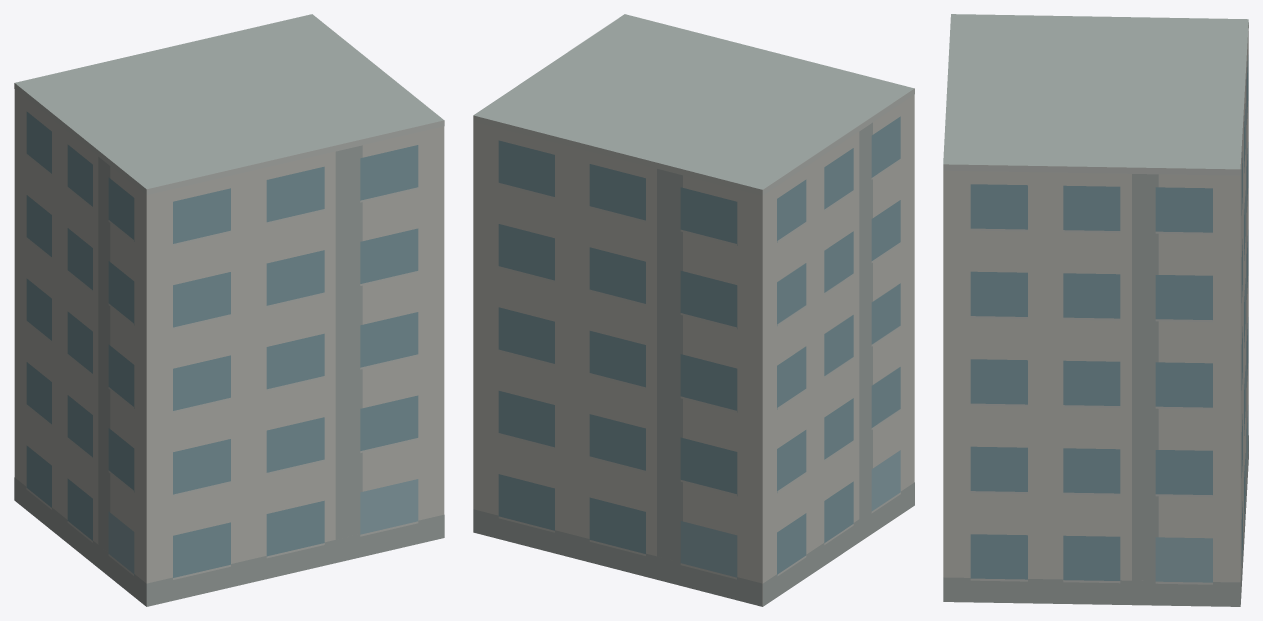
File: survey-upis-32941031.glb
3 renders of one model, left to right at view 1: azimuth 30°, elevation 25°; view 2: azimuth 150°, elevation 25°; view 3: azimuth 270°, elevation 25°, orthographic. The views are drawn at different scales.
Visible parts, largest first — view 1: survey-upis-32941031.tmp; view 2: survey-upis-32941031.tmp; view 3: survey-upis-32941031.tmp.
Part boxes in pixels (<box>): survey-upis-32941031.tmp: <box>14,14,444,606</box>; survey-upis-32941031.tmp: <box>473,14,914,606</box>; survey-upis-32941031.tmp: <box>943,14,1248,606</box>.
Size of the model in its own units: 12.8 by 16.8 by 10.65.
